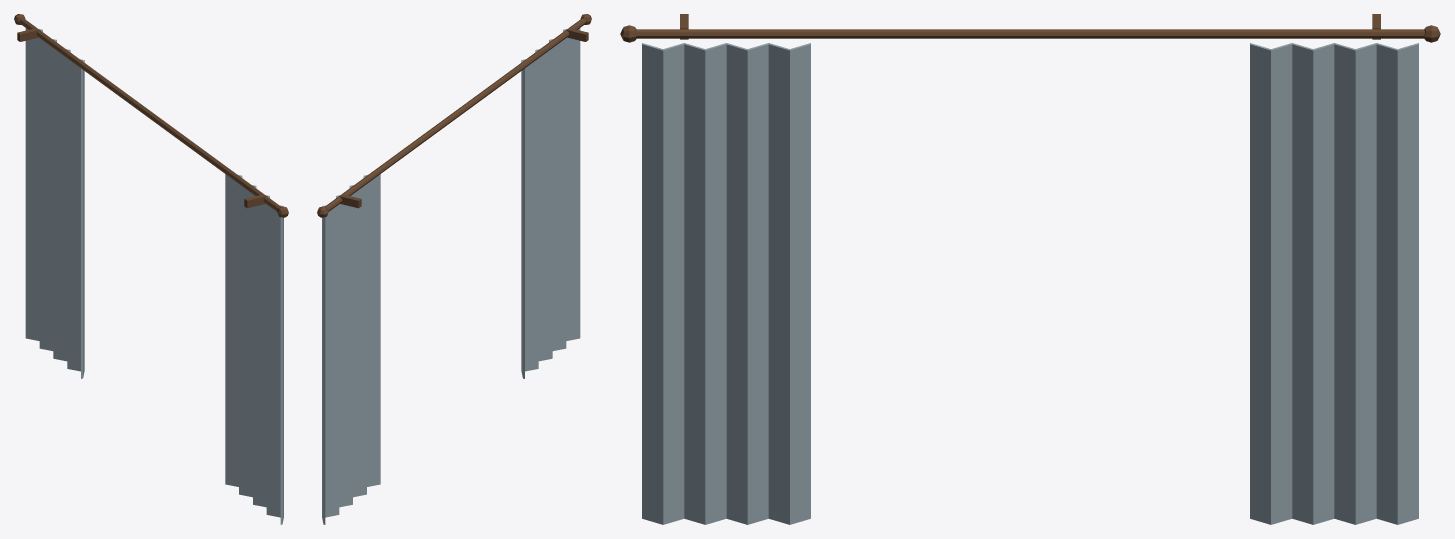
File: Cortina.fbx
3 views of the same model, side by side, from view 1: azimuth 30°, elevation 25°; view 2: azimuth 150°, elevation 25°; view 3: azimuth 270°, elevation 25° (orthographic). The views are drawn at different scales.
Parts seen in each view (by area): view 1: Deco_Cortina_Ventana; view 2: Deco_Cortina_Ventana; view 3: Deco_Cortina_Ventana.
Part boxes in pixels (x1=…): Deco_Cortina_Ventana: x1=14, y1=14, x2=288, y2=524; Deco_Cortina_Ventana: x1=317, y1=14, x2=591, y2=524; Deco_Cortina_Ventana: x1=620, y1=14, x2=1440, y2=524.
Bounding box in the file's own units: 0.13 × 1.28 × 1.94.
